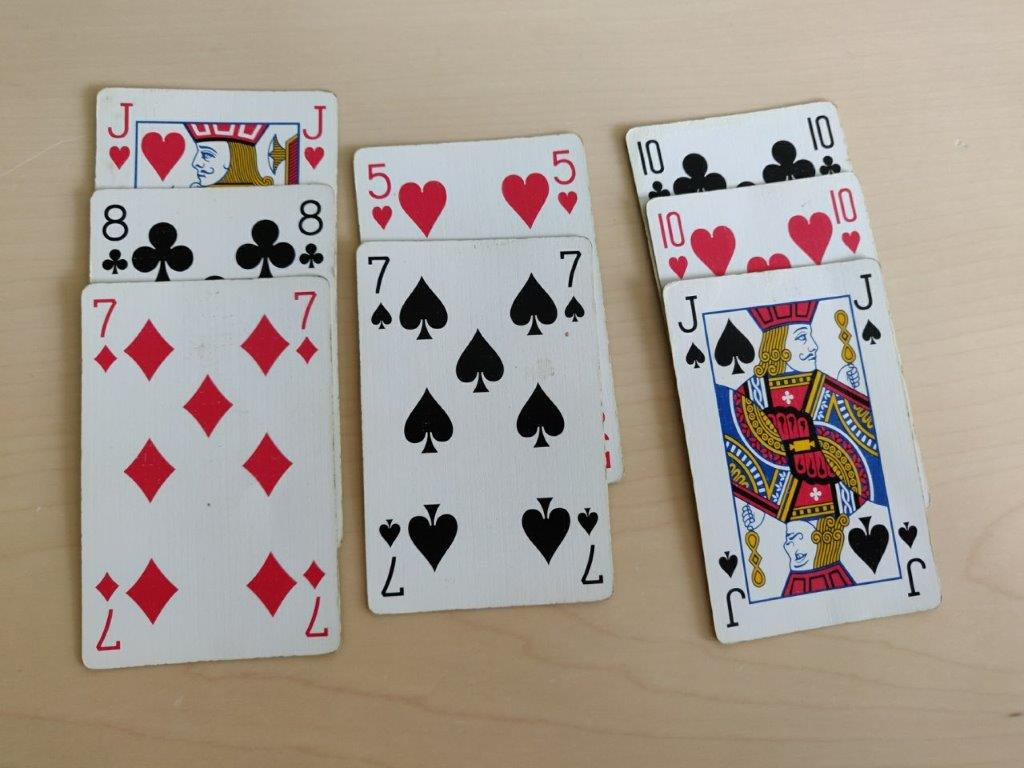10H: (654, 203, 693, 281), (826, 179, 865, 257)
5H: (360, 160, 397, 233), (546, 145, 583, 218)
7D: (87, 295, 121, 379), (288, 284, 322, 368)
7S: (355, 244, 396, 334), (554, 245, 588, 328)
8C: (98, 201, 131, 279), (294, 195, 327, 273)
JH: (103, 96, 135, 171), (297, 98, 329, 173)
JS: (671, 291, 708, 373), (849, 270, 886, 352)
